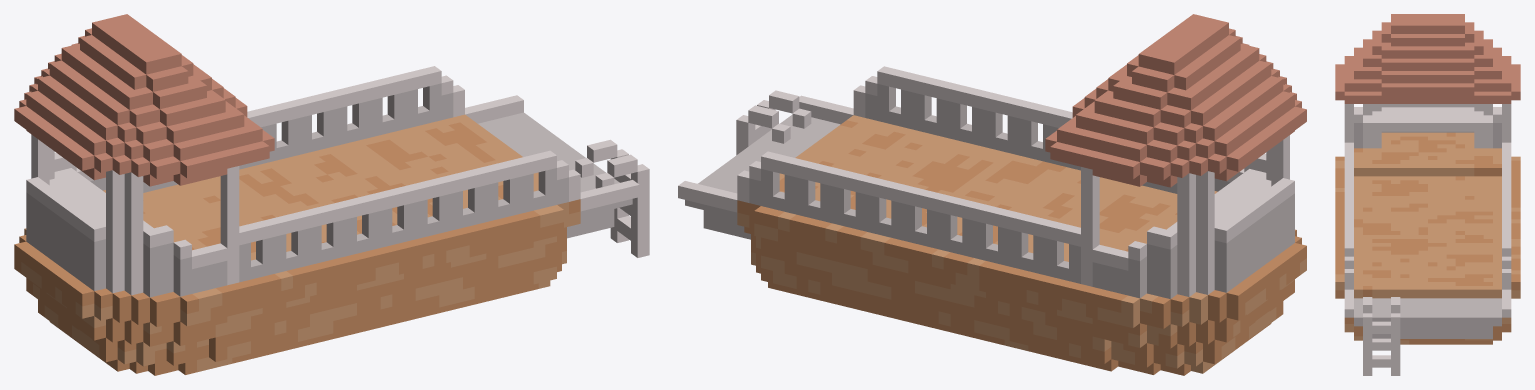
File: BarcoArreglado.fbx
The picture shows the model from 3 angles, left to right: view 1: azimuth 30°, elevation 25°; view 2: azimuth 150°, elevation 25°; view 3: azimuth 270°, elevation 25°; orthographic projection. The views are drawn at different scales.
Visible parts, largest first — view 1: barco_arreglado_47x24x20; view 2: barco_arreglado_47x24x20; view 3: barco_arreglado_47x24x20.
Boxes of the visible parts, box(x1,y1,x2,y2) form: barco_arreglado_47x24x20: box(14, 14, 649, 375); barco_arreglado_47x24x20: box(678, 14, 1306, 375); barco_arreglado_47x24x20: box(1335, 14, 1520, 375).
Size of the model in its own units: 1022 by 522 by 435.
